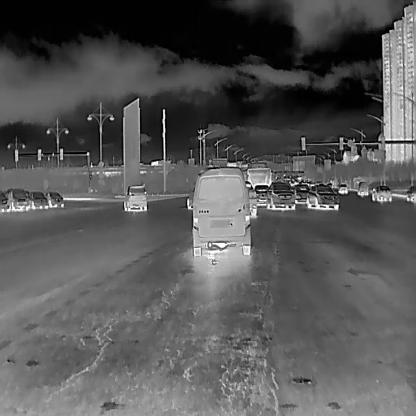car: (191, 166, 252, 257), (306, 185, 339, 209), (267, 182, 295, 206), (124, 184, 146, 211), (6, 188, 29, 210), (244, 179, 256, 217), (26, 190, 48, 207), (292, 185, 310, 203), (253, 184, 268, 204), (372, 186, 390, 202), (47, 190, 64, 206), (358, 180, 367, 196), (336, 183, 346, 194)
